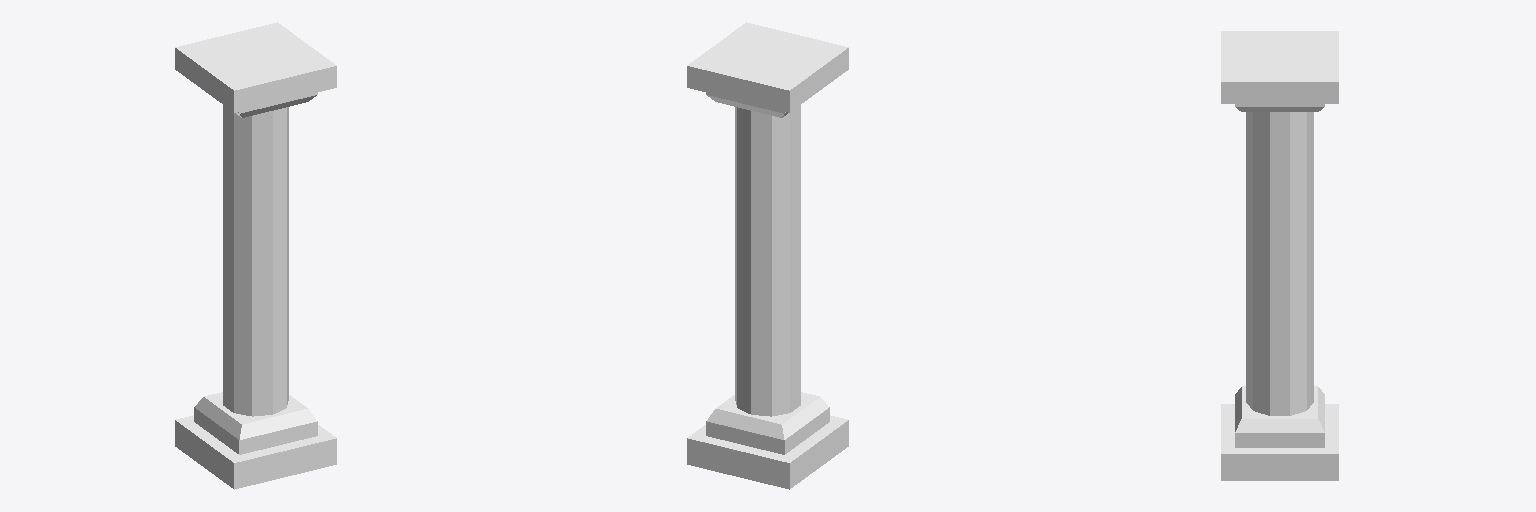
File: columna.obj
3 renders of one model, left to right at view 1: azimuth 30°, elevation 25°; view 2: azimuth 150°, elevation 25°; view 3: azimuth 270°, elevation 25°, orthographic.
Visible parts, largest first — view 1: Columnabase; view 2: Columnabase; view 3: Columnabase.
Part boxes in pixels (x1,y1,x2,y2): Columnabase: (175,22,336,489); Columnabase: (687,22,848,489); Columnabase: (1221,31,1338,480).
Size of the model in its own units: 3.18 by 11.8 by 3.18.